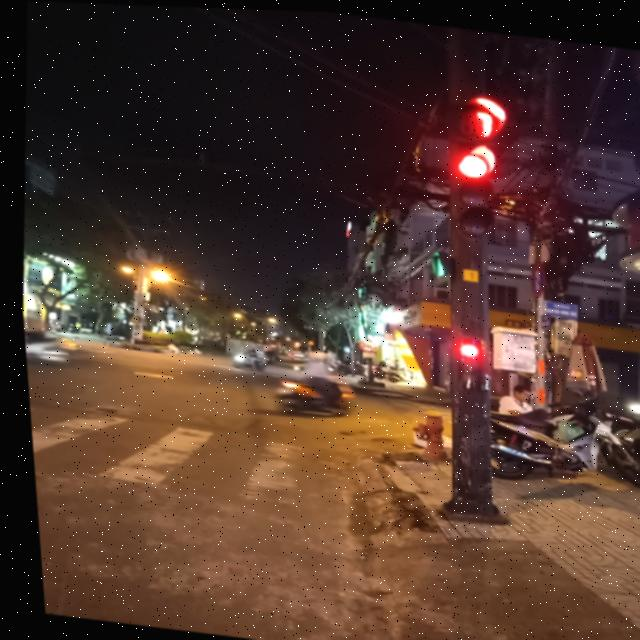Red: (438, 134, 504, 241), (441, 329, 487, 392)
